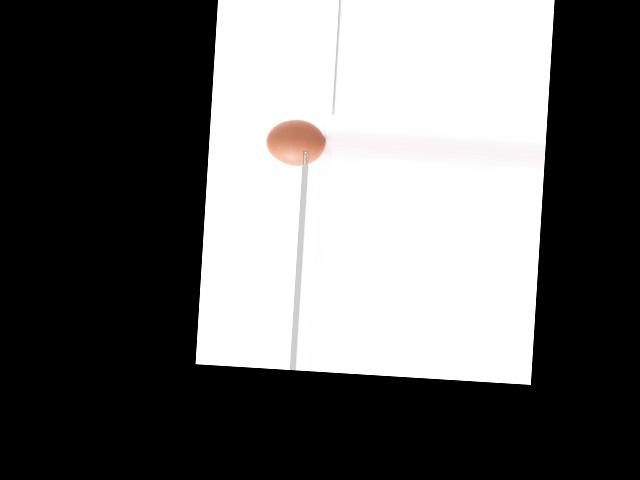egg: (265, 118, 325, 167)
